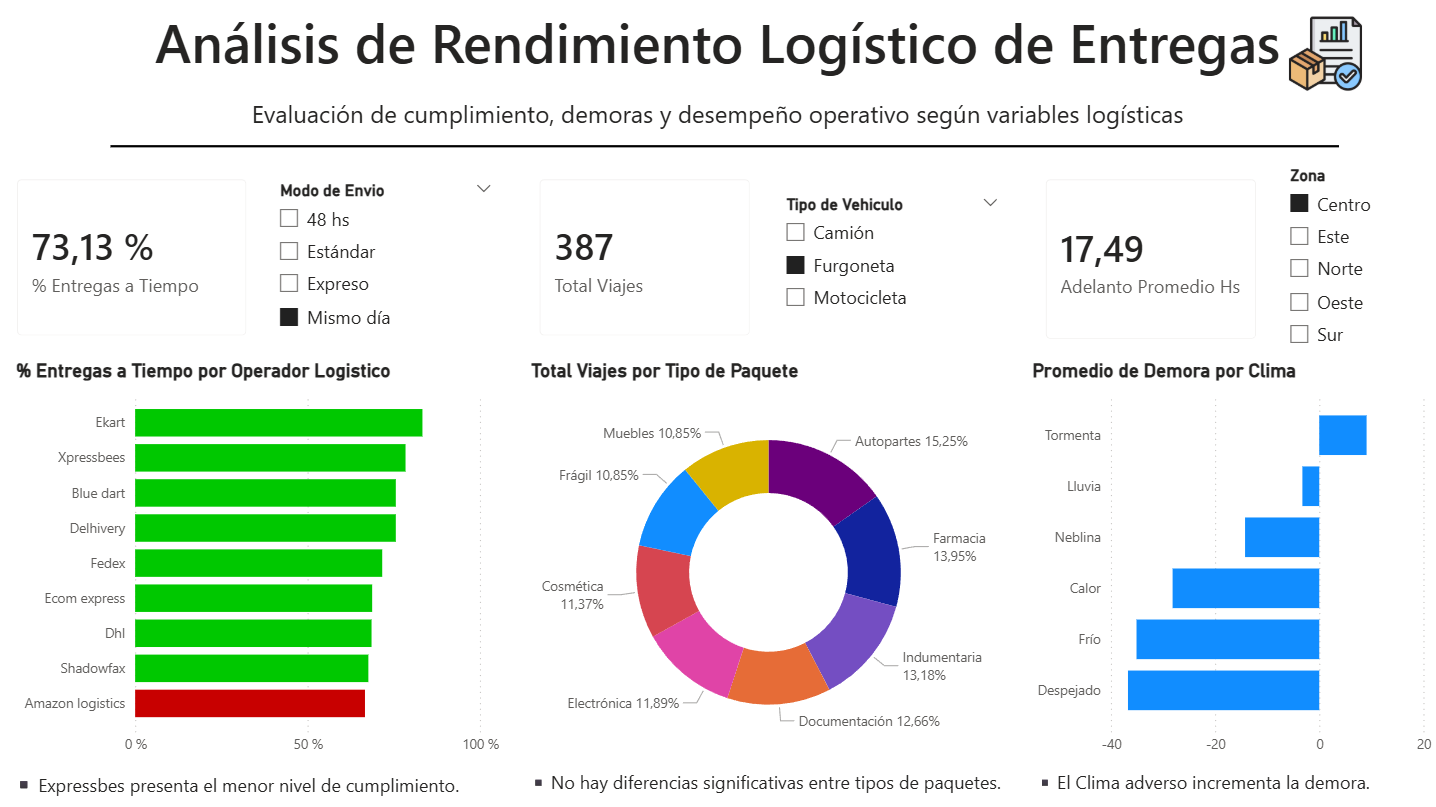

This screenshot's page, from the dashboard's own definition file:
{"tool":"powerbi","page":{"name":"Página 1","canvas":[1280,720],"ordinal":0},"visuals":[{"type":"cardVisual","fields":{"Data":["Medidas.Total Viajes"]},"box":[464.8,143.7,221.1,173.2],"z":0},{"type":"cardVisual","fields":{"Data":["Medidas.% Entregas a Tiempo"]},"box":[0,143.7,238,173.2],"z":1000},{"type":"cardVisual","fields":{"Data":["Medidas.Adelanto Promedio"]},"box":[914.1,143.7,221.1,176.1],"z":2000},{"type":"clusteredBarChart","title":"% Entregas a Tiempo por Operador Logistico","fields":{"Category":["Logistics_Final_Project.Operador_Logistico"],"Y":["Medidas.% Entregas a Tiempo"]},"box":[11.3,319.7,439.4,360.6],"z":3000},{"type":"barChart","title":"Promedio de Demora por Clima","fields":{"Category":["Logistics_Final_Project.Clima"],"Y":["Medidas.Promedio Demora"]},"box":[914.1,319.7,364.8,360.6],"z":4000},{"type":"donutChart","title":"Total Viajes por Tipo de Paquete","fields":{"Category":["Logistics_Final_Project.Tipo_Paquete"],"Y":["Medidas.Total Viajes"]},"box":[469,319.7,432.4,360.6],"z":5000},{"type":"slicer","fields":{"Values":["Logistics_Final_Project.Tipo_Vehiculo"]},"box":[687.8,168.9,213.3,125.6],"z":6000},{"type":"slicer","fields":{"Values":["Logistics_Final_Project.Modo_Envio"]},"box":[238,156.3,212.7,150.7],"z":7000},{"type":"slicer","fields":{"Values":["Logistics_Final_Project.Zona"]},"box":[1135.2,143.7,145.1,176.1],"z":8000},{"type":"textbox","box":[0,0,1279.2,81.8],"z":9000},{"type":"textbox","box":[0,81.8,1279.2,45.5],"z":10000},{"type":"image","box":[1125.4,14.1,108.5,67.6],"z":11000},{"type":"shape","box":[100,105.2,1092.2,50.6],"z":12000},{"type":"textbox","box":[0,680.3,450.7,39.4],"z":13000},{"type":"textbox","box":[464.8,680.3,435.2,39.4],"z":14000},{"type":"textbox","box":[914.1,680.3,364.8,39.4],"z":15000}]}

Visuals, with their boxes in screenshot pixels (x1, y1, x2, y2), scaled from the page's 1280x720 canvas onto the 1436x807 screenshot:
cardVisual - Medidas.Total Viajes: x1=521, y1=161, x2=769, y2=355
cardVisual - Medidas.% Entregas a Tiempo: x1=0, y1=161, x2=267, y2=355
cardVisual - Medidas.Adelanto Promedio: x1=1026, y1=161, x2=1274, y2=358
"% Entregas a Tiempo por Operador Logistico" clusteredBarChart: x1=13, y1=358, x2=506, y2=763
"Promedio de Demora por Clima" barChart: x1=1026, y1=358, x2=1435, y2=763
"Total Viajes por Tipo de Paquete" donutChart: x1=526, y1=358, x2=1011, y2=763
slicer - Logistics_Final_Project.Tipo_Vehiculo: x1=772, y1=189, x2=1011, y2=330
slicer - Logistics_Final_Project.Modo_Envio: x1=267, y1=175, x2=506, y2=344
slicer - Logistics_Final_Project.Zona: x1=1274, y1=161, x2=1435, y2=358
textbox: x1=0, y1=0, x2=1435, y2=92
textbox: x1=0, y1=92, x2=1435, y2=143
image: x1=1263, y1=16, x2=1384, y2=92
shape: x1=112, y1=118, x2=1337, y2=175
textbox: x1=0, y1=763, x2=506, y2=806
textbox: x1=521, y1=763, x2=1010, y2=806
textbox: x1=1026, y1=763, x2=1435, y2=806
